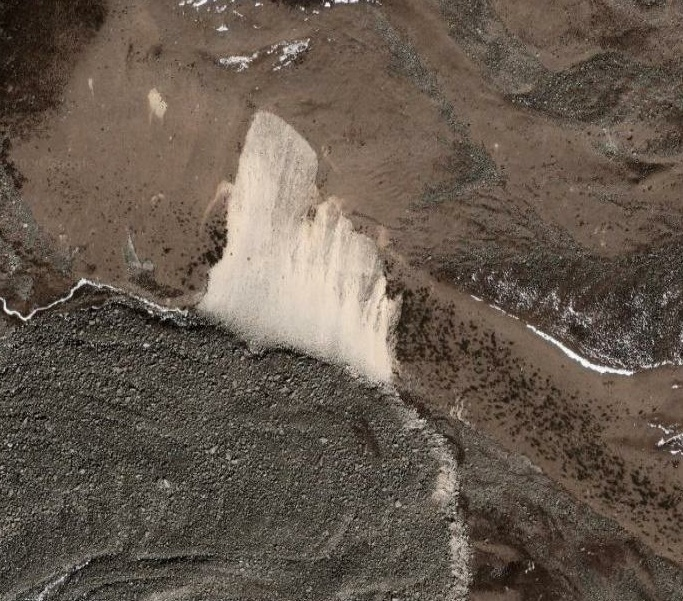slope: (201, 106, 401, 392)
